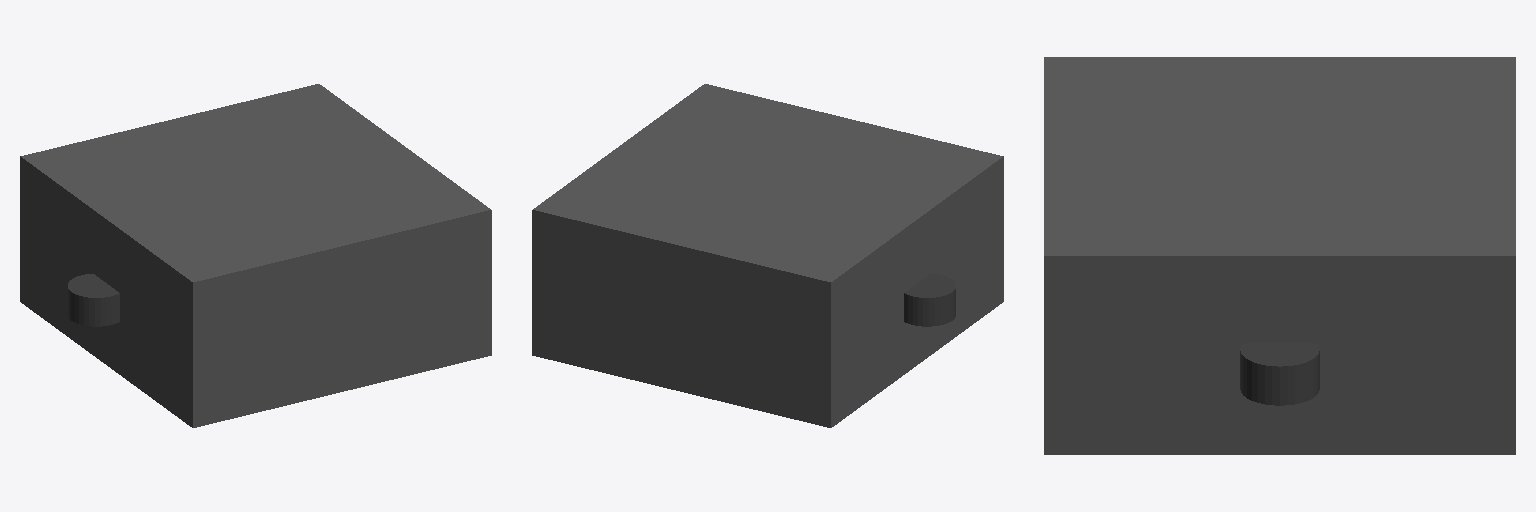
robot.urdf — sendbooster_agv:
<?xml version="1.0"?>
<!--
  Gazebo STRESS TEST URDF for Sendbooster AGV
  Higher sensor noise + lower update rates to simulate
  real-world degraded conditions:
  - LiDAR noise: 0.01 → 0.03m (dust, reflective surfaces)
  - LiDAR rate: 10 → 7Hz (RPLIDAR under load)
  - IMU noise: 3-5x increase (vibration, EMI)
  - IMU rate: 50 → 30Hz (serial polling delay)
  - Wheel friction variance (floor texture changes)
-->
<robot name="sendbooster_agv">

  <!-- ====== Materials ====== -->
  <material name="black"><color rgba="0.0 0.0 0.0 1.0"/></material>
  <material name="dark"><color rgba="0.3 0.3 0.3 1.0"/></material>
  <material name="light_black"><color rgba="0.4 0.4 0.4 1.0"/></material>

  <!-- ====== Base Footprint (ground projection) ====== -->
  <link name="base_footprint"/>

  <joint name="base_joint" type="fixed">
    <parent link="base_footprint"/>
    <child link="base_link"/>
    <origin xyz="0 0 0" rpy="0 0 0"/>
  </joint>

  <!-- ====== Base Link (robot body: 0.6m x 0.6m x 0.3m) ====== -->
  <!-- Collision box raised so bottom is above ground (z=0.01), preventing
       the body from resting on the floor instead of the wheels. -->
  <link name="base_link">
    <visual>
      <origin xyz="0 0 0.16" rpy="0 0 0"/>
      <geometry><box size="0.6 0.6 0.28"/></geometry>
      <material name="light_black"/>
    </visual>
    <collision>
      <origin xyz="0 0 0.16" rpy="0 0 0"/>
      <geometry><box size="0.6 0.6 0.28"/></geometry>
    </collision>
    <inertial>
      <origin xyz="0 0 0.16" rpy="0 0 0"/>
      <mass value="20.0"/>
      <inertia ixx="0.75" ixy="0" ixz="0" iyy="0.75" iyz="0" izz="1.2"/>
    </inertial>
  </link>

  <!-- ====== Left Wheel ====== -->
  <joint name="wheel_left_joint" type="continuous">
    <parent link="base_link"/>
    <child link="wheel_left_link"/>
    <!-- y=0.185 (half of wheel_separation 0.37m), z=0.0965 (wheel_radius, touches ground) -->
    <!-- Both wheels use rpy=-1.5708: axes point +Y so positive velocity = forward -->
    <origin xyz="0 0.185 0.0965" rpy="-1.5708 0 0"/>
    <axis xyz="0 0 1"/>
  </joint>

  <link name="wheel_left_link">
    <visual>
      <geometry><cylinder radius="0.0965" length="0.048"/></geometry>
      <material name="dark"/>
    </visual>
    <collision>
      <geometry><cylinder radius="0.0965" length="0.048"/></geometry>
    </collision>
    <inertial>
      <mass value="1.0"/>
      <inertia ixx="0.0025" ixy="0" ixz="0" iyy="0.0025" iyz="0" izz="0.0047"/>
    </inertial>
  </link>

  <!-- ====== Right Wheel ====== -->
  <joint name="wheel_right_joint" type="continuous">
    <parent link="base_link"/>
    <child link="wheel_right_link"/>
    <origin xyz="0 -0.185 0.0965" rpy="-1.5708 0 0"/>
    <axis xyz="0 0 1"/>
  </joint>

  <link name="wheel_right_link">
    <visual>
      <geometry><cylinder radius="0.0965" length="0.048"/></geometry>
      <material name="dark"/>
    </visual>
    <collision>
      <geometry><cylinder radius="0.0965" length="0.048"/></geometry>
    </collision>
    <inertial>
      <mass value="1.0"/>
      <inertia ixx="0.0025" ixy="0" ixz="0" iyy="0.0025" iyz="0" izz="0.0047"/>
    </inertial>
  </link>

  <!-- ====== Front Caster (frictionless support) ====== -->
  <joint name="front_caster_joint" type="fixed">
    <parent link="base_link"/>
    <child link="front_caster_link"/>
    <origin xyz="0.25 0 0.015" rpy="0 0 0"/>
  </joint>

  <link name="front_caster_link">
    <visual>
      <geometry><sphere radius="0.015"/></geometry>
      <material name="black"/>
    </visual>
    <collision>
      <geometry><sphere radius="0.015"/></geometry>
    </collision>
    <inertial>
      <mass value="0.1"/>
      <inertia ixx="0.000009" ixy="0" ixz="0" iyy="0.000009" iyz="0" izz="0.000009"/>
    </inertial>
  </link>

  <!-- ====== Back Caster (frictionless support) ====== -->
  <joint name="back_caster_joint" type="fixed">
    <parent link="base_link"/>
    <child link="back_caster_link"/>
    <origin xyz="-0.25 0 0.015" rpy="0 0 0"/>
  </joint>

  <link name="back_caster_link">
    <visual>
      <geometry><sphere radius="0.015"/></geometry>
      <material name="black"/>
    </visual>
    <collision>
      <geometry><sphere radius="0.015"/></geometry>
    </collision>
    <inertial>
      <mass value="0.1"/>
      <inertia ixx="0.000009" ixy="0" ixz="0" iyy="0.000009" iyz="0" izz="0.000009"/>
    </inertial>
  </link>

  <!-- ====== IMU Link ====== -->
  <!-- Mounted 180° rotated around Z (same as real robot) -->
  <joint name="imu_joint" type="fixed">
    <parent link="base_link"/>
    <child link="imu_link"/>
    <origin xyz="0 0 0.1" rpy="0 0 3.14159"/>
  </joint>

  <link name="imu_link">
    <inertial>
      <mass value="0.01"/>
      <inertia ixx="0.000001" ixy="0" ixz="0" iyy="0.000001" iyz="0" izz="0.000001"/>
    </inertial>
  </link>

  <!-- ====== Front LiDAR ====== -->
  <!-- Hardware 0° faces -X, rotated 180° so scan aligns with +X (forward) -->
  <joint name="lidar_joint" type="fixed">
    <parent link="base_link"/>
    <child link="base_scan"/>
    <origin xyz="0.32 0 0" rpy="0 0 3.14159"/>
  </joint>

  <link name="base_scan">
    <visual>
      <origin xyz="0 0 0.15" rpy="0 0 0"/>
      <geometry><cylinder radius="0.0508" length="0.055"/></geometry>
      <material name="dark"/>
    </visual>
    <!-- No collision: ray sensor doesn't need it, and cylinder at z=0 collides with ground -->
    <inertial>
      <mass value="0.2"/>
      <inertia ixx="0.00005" ixy="0" ixz="0" iyy="0.00005" iyz="0" izz="0.00005"/>
    </inertial>
  </link>

  <!-- ====== Back LiDAR ====== -->
  <joint name="lidar_joint_back" type="fixed">
    <parent link="base_link"/>
    <child link="base_scan_back"/>
    <origin xyz="-0.32 0 0" rpy="0 0 3.14159"/>
  </joint>

  <link name="base_scan_back">
    <visual>
      <origin xyz="0 0 0.15" rpy="0 0 0"/>
      <geometry><cylinder radius="0.0508" length="0.055"/></geometry>
      <material name="dark"/>
    </visual>
    <inertial>
      <mass value="0.2"/>
      <inertia ixx="0.00005" ixy="0" ixz="0" iyy="0.00005" iyz="0" izz="0.00005"/>
    </inertial>
  </link>

  <!-- ============================================================ -->
  <!-- =================== GAZEBO PLUGINS ========================= -->
  <!-- ============================================================ -->

  <!-- Gazebo colors -->
  <gazebo reference="base_link"><material>Gazebo/DarkGrey</material></gazebo>
  <gazebo reference="wheel_left_link"><material>Gazebo/FlatBlack</material></gazebo>
  <gazebo reference="wheel_right_link"><material>Gazebo/FlatBlack</material></gazebo>
  <gazebo reference="front_caster_link"><material>Gazebo/FlatBlack</material></gazebo>
  <gazebo reference="back_caster_link"><material>Gazebo/FlatBlack</material></gazebo>
  <gazebo reference="base_scan"><material>Gazebo/FlatBlack</material></gazebo>
  <gazebo reference="base_scan_back"><material>Gazebo/FlatBlack</material></gazebo>

  <!-- Caster friction: near-zero for frictionless sliding -->
  <gazebo reference="front_caster_link">
    <mu1>0.001</mu1>
    <mu2>0.001</mu2>
    <kp>1000000.0</kp>
    <kd>10.0</kd>
  </gazebo>
  <gazebo reference="back_caster_link">
    <mu1>0.001</mu1>
    <mu2>0.001</mu2>
    <kp>1000000.0</kp>
    <kd>10.0</kd>
  </gazebo>

  <!-- Drive wheel friction (STRESS: asymmetric for slight drift) -->
  <gazebo reference="wheel_left_link">
    <mu1>0.8</mu1>
    <mu2>0.8</mu2>
    <kp>500000.0</kp>
    <kd>10.0</kd>
  </gazebo>
  <gazebo reference="wheel_right_link">
    <mu1>0.9</mu1>
    <mu2>0.9</mu2>
    <kp>500000.0</kp>
    <kd>10.0</kd>
  </gazebo>

  <!-- ── Differential Drive (replaces motor_driver_node) ── -->
  <gazebo>
    <plugin name="diff_drive" filename="libgazebo_ros_diff_drive.so">
      <ros>
        <remapping>odom:=odom</remapping>
      </ros>
      <left_joint>wheel_left_joint</left_joint>
      <right_joint>wheel_right_joint</right_joint>
      <wheel_separation>0.37</wheel_separation>
      <wheel_diameter>0.193</wheel_diameter>
      <max_wheel_torque>50</max_wheel_torque>
      <max_wheel_acceleration>2.0</max_wheel_acceleration>
      <command_topic>cmd_vel</command_topic>
      <odometry_topic>odom</odometry_topic>
      <odometry_frame>odom</odometry_frame>
      <robot_base_frame>base_footprint</robot_base_frame>
      <!-- EKF publishes odom→base_footprint TF, not diff_drive -->
      <publish_odom>true</publish_odom>
      <publish_odom_tf>false</publish_odom_tf>
      <publish_wheel_tf>false</publish_wheel_tf>
      <update_rate>50</update_rate>
      <odometry_source>1</odometry_source>  <!-- 1=encoder -->
    </plugin>
  </gazebo>

  <!-- ── Front LiDAR (STRESS: 3x noise, 7Hz) ── -->
  <gazebo reference="base_scan">
    <sensor type="ray" name="front_lidar">
      <pose>0 0 0 0 0 0</pose>
      <always_on>true</always_on>
      <update_rate>7</update_rate>
      <visualize>false</visualize>
      <ray>
        <scan>
          <horizontal>
            <samples>360</samples>
            <resolution>1</resolution>
            <min_angle>-3.14159</min_angle>
            <max_angle>3.14159</max_angle>
          </horizontal>
        </scan>
        <range>
          <min>0.15</min>
          <max>12.0</max>
          <resolution>0.01</resolution>
        </range>
        <noise>
          <type>gaussian</type>
          <mean>0.0</mean>
          <stddev>0.03</stddev>
        </noise>
      </ray>
      <plugin name="front_lidar_plugin" filename="libgazebo_ros_ray_sensor.so">
        <ros>
          <remapping>~/out:=scan_raw_front</remapping>
        </ros>
        <output_type>sensor_msgs/LaserScan</output_type>
        <frame_name>base_scan</frame_name>
      </plugin>
    </sensor>
  </gazebo>

  <!-- ── Back LiDAR (STRESS: 3x noise, 7Hz) ── -->
  <gazebo reference="base_scan_back">
    <sensor type="ray" name="back_lidar">
      <pose>0 0 0 0 0 0</pose>
      <always_on>true</always_on>
      <update_rate>7</update_rate>
      <visualize>false</visualize>
      <ray>
        <scan>
          <horizontal>
            <samples>360</samples>
            <resolution>1</resolution>
            <min_angle>-3.14159</min_angle>
            <max_angle>3.14159</max_angle>
          </horizontal>
        </scan>
        <range>
          <min>0.15</min>
          <max>12.0</max>
          <resolution>0.01</resolution>
        </range>
        <noise>
          <type>gaussian</type>
          <mean>0.0</mean>
          <stddev>0.03</stddev>
        </noise>
      </ray>
      <plugin name="back_lidar_plugin" filename="libgazebo_ros_ray_sensor.so">
        <ros>
          <remapping>~/out:=scan_raw_back</remapping>
        </ros>
        <output_type>sensor_msgs/LaserScan</output_type>
        <frame_name>base_scan_back</frame_name>
      </plugin>
    </sensor>
  </gazebo>

  <!-- ── IMU Sensor (STRESS: 5x gyro noise, 3x accel noise, 30Hz) ── -->
  <gazebo reference="imu_link">
    <sensor type="imu" name="imu_sensor">
      <always_on>true</always_on>
      <update_rate>30</update_rate>
      <imu>
        <angular_velocity>
          <x><noise type="gaussian"><mean>0</mean><stddev>0.001</stddev></noise></x>
          <y><noise type="gaussian"><mean>0</mean><stddev>0.001</stddev></noise></y>
          <z><noise type="gaussian"><mean>0</mean><stddev>0.001</stddev></noise></z>
        </angular_velocity>
        <linear_acceleration>
          <x><noise type="gaussian"><mean>0</mean><stddev>0.05</stddev></noise></x>
          <y><noise type="gaussian"><mean>0</mean><stddev>0.05</stddev></noise></y>
          <z><noise type="gaussian"><mean>0</mean><stddev>0.05</stddev></noise></z>
        </linear_acceleration>
      </imu>
      <plugin name="imu_plugin" filename="libgazebo_ros_imu_sensor.so">
        <ros>
          <remapping>~/out:=imu/data</remapping>
        </ros>
        <frame_name>imu_link</frame_name>
        <initial_orientation_as_reference>false</initial_orientation_as_reference>
      </plugin>
    </sensor>
  </gazebo>

</robot>

--- Facts derived from the render (not from the file) ---
Views: 3 orthographic renders of the robot side by side, from view 1: azimuth 30°, elevation 25°; view 2: azimuth 150°, elevation 25°; view 3: azimuth 270°, elevation 25°.
Robot: sendbooster_agv — 9 links, 8 joints (2 continuous, 6 fixed); root link base_footprint; default pose: every joint at zero.
Visible links, largest first — view 1: base_link, base_scan_back; view 2: base_link, base_scan_back; view 3: base_link, base_scan.
Boxes of the visible links, <box> form: base_link: <box>20,84,491,427</box>; base_scan_back: <box>68,274,119,326</box>; base_link: <box>532,84,1003,427</box>; base_scan_back: <box>904,274,955,326</box>; base_link: <box>1044,57,1515,454</box>; base_scan: <box>1240,343,1319,405</box>.
Size in the robot's own frame: 0.7416 by 0.6 by 0.3 metres.
Geometry: primitives only (box / cylinder / sphere), no mesh files.
